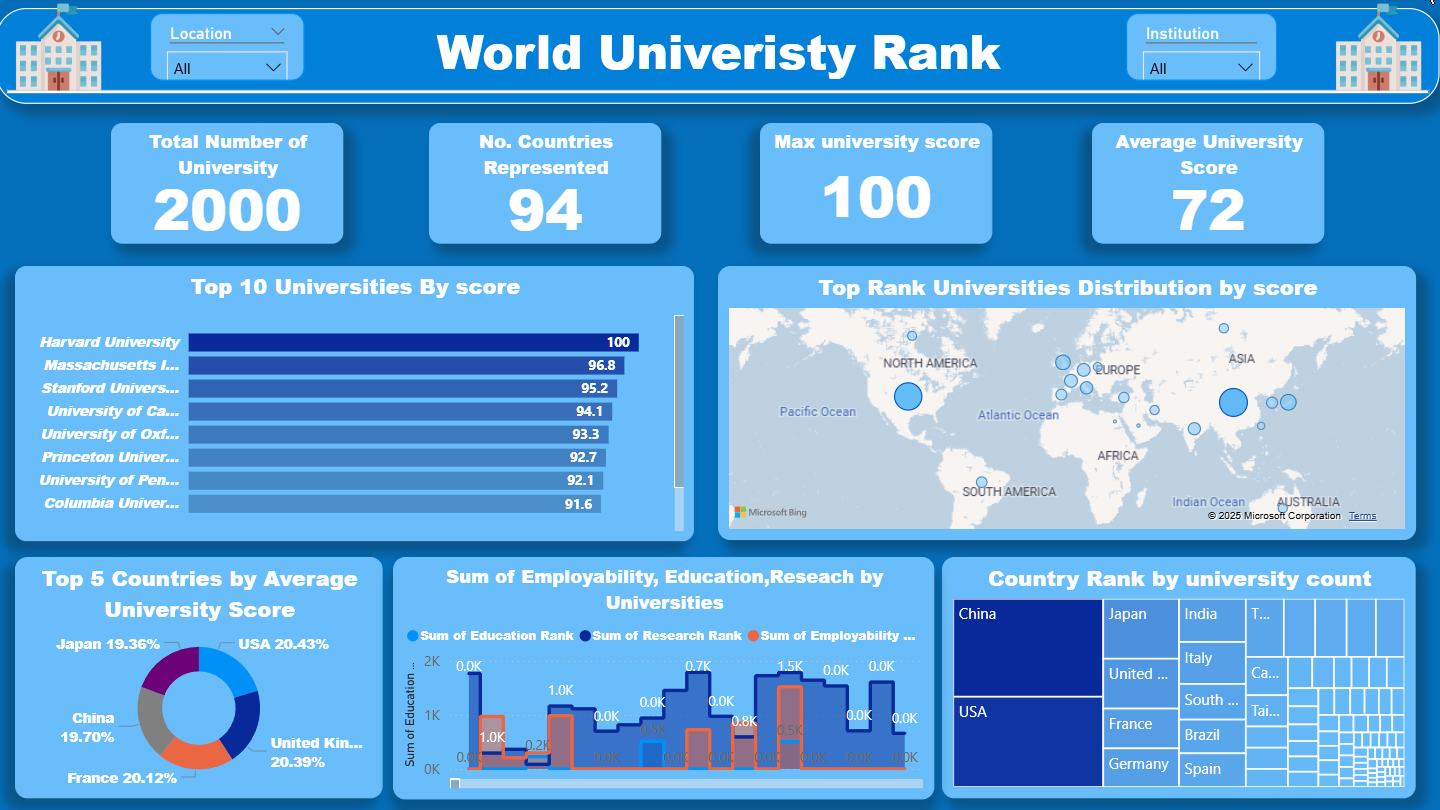

Layout of this report page (visuals, bound fields, positions):
{"tool":"powerbi","page":{"name":"UN Rank","canvas":[1280,720],"ordinal":0},"visuals":[{"type":"shape","title":"World Univeristy Rank ","box":[0,9.1,1280,85.5],"z":0},{"type":"image","box":[0,0,110,87.3],"z":1000},{"type":"image","box":[1170,0,110,87.3],"z":2000},{"type":"card","title":"Total Number of University","fields":{"Values":["Count(University rank.Institution)"]},"box":[102.1,110.8,206,106.9],"z":3000},{"type":"card","title":"No. Countries Represented","fields":{"Values":["Count(University rank.Location)"]},"box":[383.9,110.8,206,106.9],"z":4000},{"type":"card","title":"Max university score","fields":{"Values":["Max(University rank.Score)"]},"box":[677.4,110.8,206,106.9],"z":5000},{"type":"card","title":"Average University Score","fields":{"Values":["Avg(University rank.Score)"]},"box":[971.9,110.8,206,106.9],"z":6000},{"type":"barChart","title":"Top 10 Universities By score","fields":{"Y":["Sum(University rank.Score)"],"Category":["University rank.Institution"]},"box":[17,238,602,244],"z":7000},{"type":"slicer","fields":{"Values":["University rank.Institution"]},"box":[1001.8,13.6,133.6,60],"z":8000},{"type":"slicer","fields":{"Values":["University rank.Location"]},"box":[136.4,13.6,137.3,60],"z":9000},{"type":"map","title":"Top Rank Universities Distribution by score","fields":{"Category":["University rank.Location"],"Size":["Sum(University rank.Score)"]},"box":[640,238,619,243],"z":10000},{"type":"donutChart","title":"Top 5 Countries by Average University Score","fields":{"Category":["University rank.Location"],"Y":["Avg(University rank.Score)"]},"box":[17,496,326,214],"z":11000},{"type":"treemap","title":"Country Rank  by university count","fields":{"Values":["Count(University rank.World Rank)"],"Group":["University rank.Location"]},"box":[839,496,420,214],"z":12000},{"type":"areaChart","title":"Sum of Employability, Education,Reseach by Universities","fields":{"Category":["University rank.Institution"],"Y":["Sum(University rank.Education Rank)","Sum(University rank.Research Rank)","Sum(University rank.Employability Rank)"]},"box":[351.8,495.5,480,214.5],"z":13000}]}

Visuals, with their boxes in screenshot pixels (x1, y1, x2, y2), scaled from the page's 1280x720 canvas onto the 1440x810 screenshot:
"World Univeristy Rank " shape: pyautogui.locateOnScreen(0, 10, 1439, 106)
image: pyautogui.locateOnScreen(0, 0, 124, 98)
image: pyautogui.locateOnScreen(1316, 0, 1439, 98)
"Total Number of University" card: pyautogui.locateOnScreen(115, 125, 347, 245)
"No. Countries Represented" card: pyautogui.locateOnScreen(432, 125, 664, 245)
"Max university score" card: pyautogui.locateOnScreen(762, 125, 994, 245)
"Average University Score" card: pyautogui.locateOnScreen(1093, 125, 1325, 245)
"Top 10 Universities By score" barChart: pyautogui.locateOnScreen(19, 268, 696, 542)
slicer - University rank.Institution: pyautogui.locateOnScreen(1127, 15, 1277, 83)
slicer - University rank.Location: pyautogui.locateOnScreen(153, 15, 308, 83)
"Top Rank Universities Distribution by score" map: pyautogui.locateOnScreen(720, 268, 1416, 541)
"Top 5 Countries by Average University Score" donutChart: pyautogui.locateOnScreen(19, 558, 386, 799)
"Country Rank  by university count" treemap: pyautogui.locateOnScreen(944, 558, 1416, 799)
"Sum of Employability, Education,Reseach by Universities" areaChart: pyautogui.locateOnScreen(396, 557, 936, 799)
